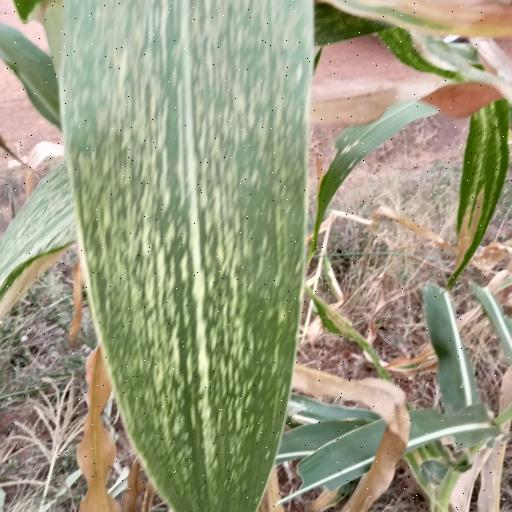Corn_Streak: (46, 0, 319, 512)
